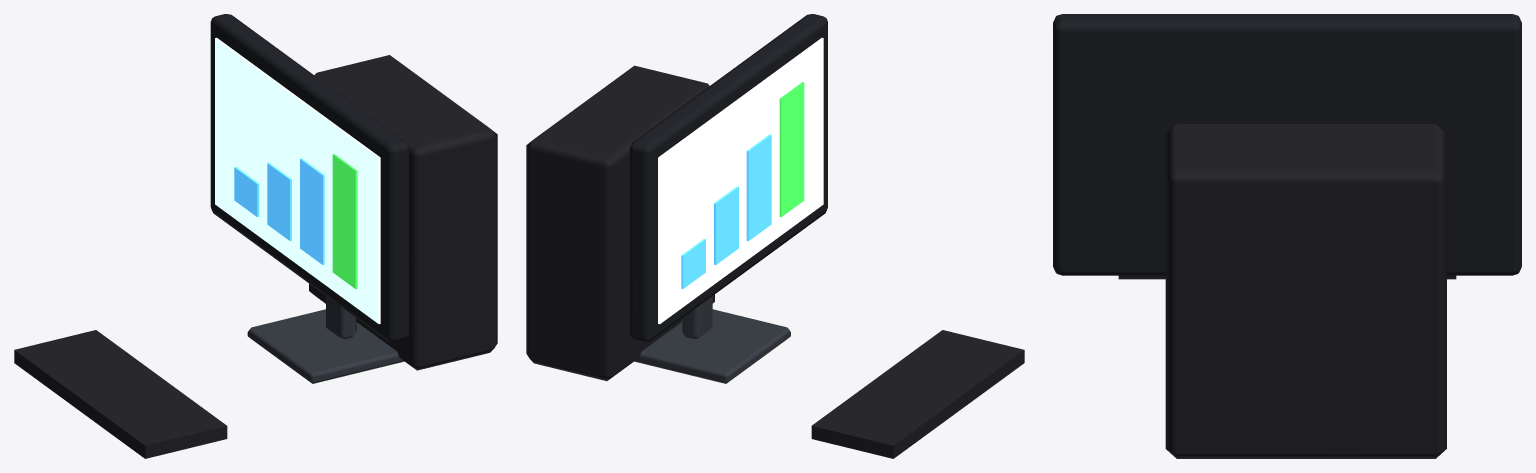
File: station_buffer_ausstattung_1_2.glb
The picture shows the model from 3 angles, left to right: view 1: azimuth 30°, elevation 25°; view 2: azimuth 150°, elevation 25°; view 3: azimuth 270°, elevation 25°; orthographic projection. The views are drawn at different scales.
Parts seen in each view (by area): view 1: station_buffer_ausstattung_1_2; view 2: station_buffer_ausstattung_1_2; view 3: station_buffer_ausstattung_1_2.
Part boxes in pixels (box(x1,y1,x2,y2)): station_buffer_ausstattung_1_2: box(14, 14, 497, 458); station_buffer_ausstattung_1_2: box(526, 14, 1024, 458); station_buffer_ausstattung_1_2: box(1053, 14, 1521, 458).
Size of the model in its own units: 0.595 by 0.418 by 0.5.
